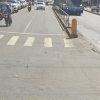crosswalks: (0, 37, 73, 47)
